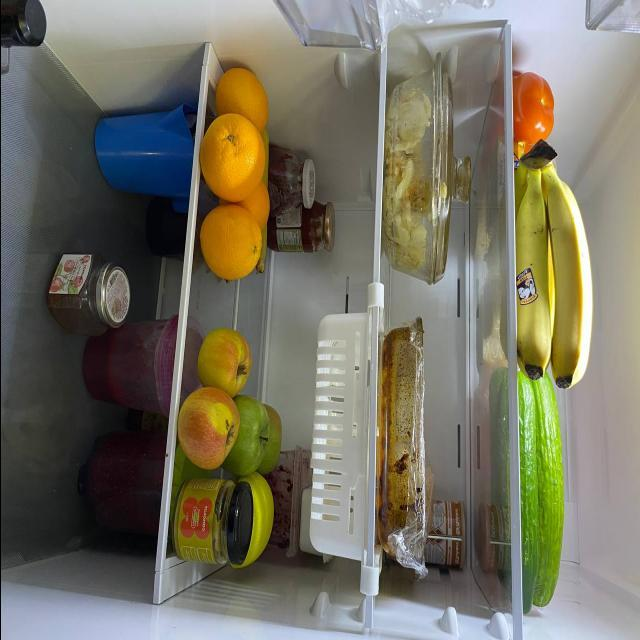Apple: (180, 371, 240, 468), (197, 329, 251, 394), (234, 398, 269, 473), (262, 403, 283, 478)
Banana: (539, 144, 595, 386), (509, 155, 557, 381)
Cucumber: (533, 368, 566, 618), (512, 368, 531, 616)
Orange: (202, 114, 263, 204), (202, 206, 260, 286), (217, 65, 267, 143), (231, 180, 272, 232)
Tomato: (511, 66, 554, 150)
